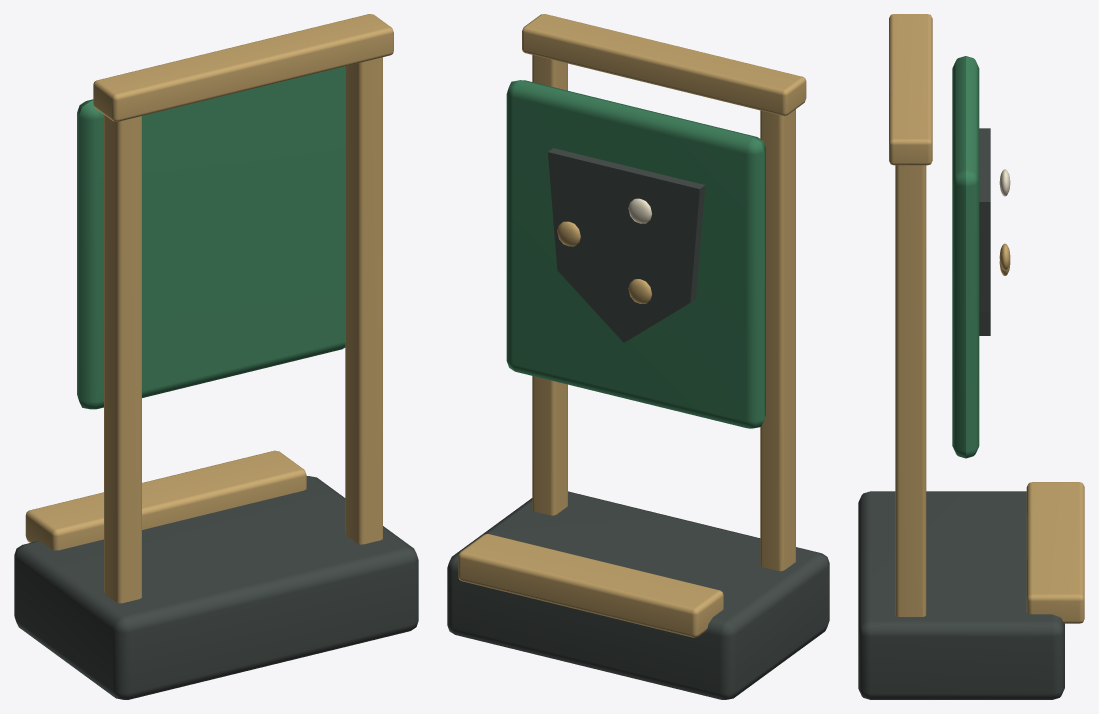
File: fanstand.forest-lanterns.glb
3 views of the same model, side by side, from view 1: azimuth 30°, elevation 25°; view 2: azimuth 150°, elevation 25°; view 3: azimuth 270°, elevation 25° (orthographic). The views are drawn at different scales.
Parts seen in each view (by area): view 1: Beveled pedestal; view 2: Beveled pedestal; view 3: Beveled pedestal.
Boxes of the visible parts, x1,y1,x2,y2 form: Beveled pedestal: (14, 14, 418, 699); Beveled pedestal: (447, 14, 829, 699); Beveled pedestal: (858, 14, 1084, 699).
Size of the model in its own units: 0.91 by 1.7 by 0.625.
